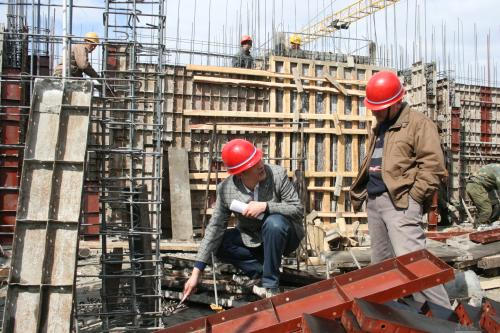boots: (252, 283, 279, 298)
hard-hat: (364, 70, 405, 110), (221, 139, 263, 175)
person: (350, 69, 454, 313), (181, 138, 305, 304)
